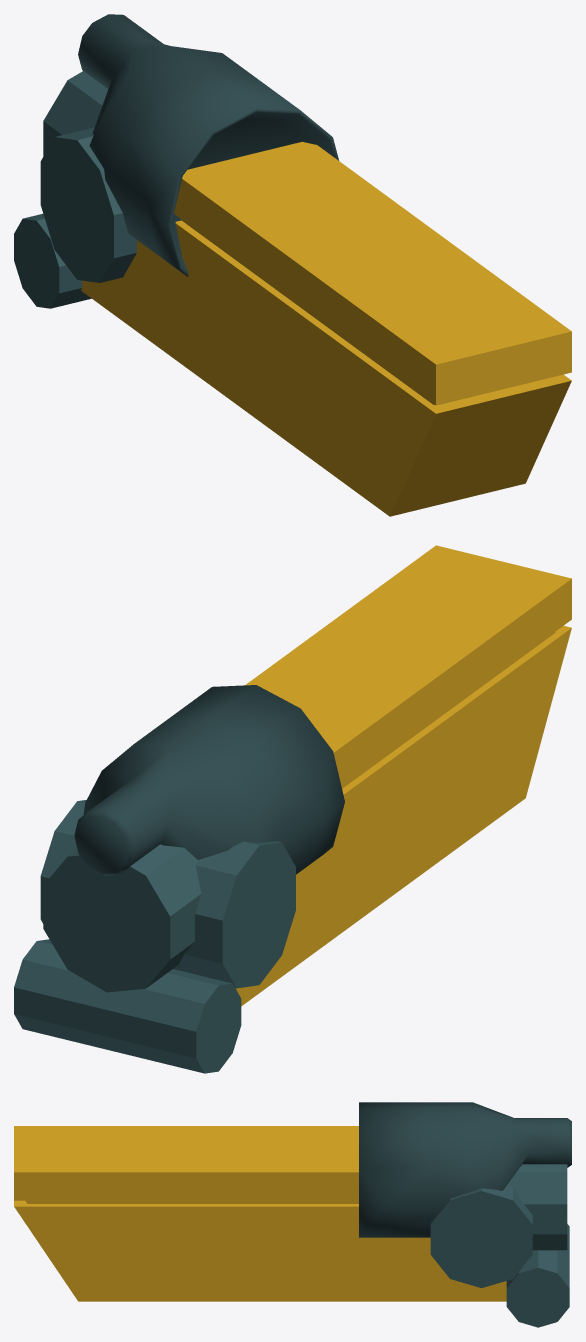
The model's file is Gun.fbx.
3 views of the same model, one above another, from view 1: azimuth 30°, elevation 25°; view 2: azimuth 150°, elevation 25°; view 3: azimuth 270°, elevation 25° (orthographic). The views are drawn at different scales.
Parts seen in each view (by area): view 1: Gun; view 2: Gun; view 3: Gun.
Part boxes in pixels (x1,y1,x2,y2): Gun: (14, 14, 571, 516); Gun: (14, 545, 571, 1073); Gun: (14, 1102, 571, 1327).
Bounding box in the file's own units: 20 × 28.36 × 76.17.
1 material, 1 textured.
